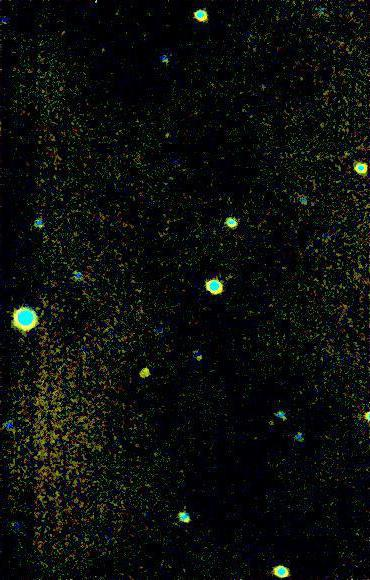star: (124, 359, 154, 389)
